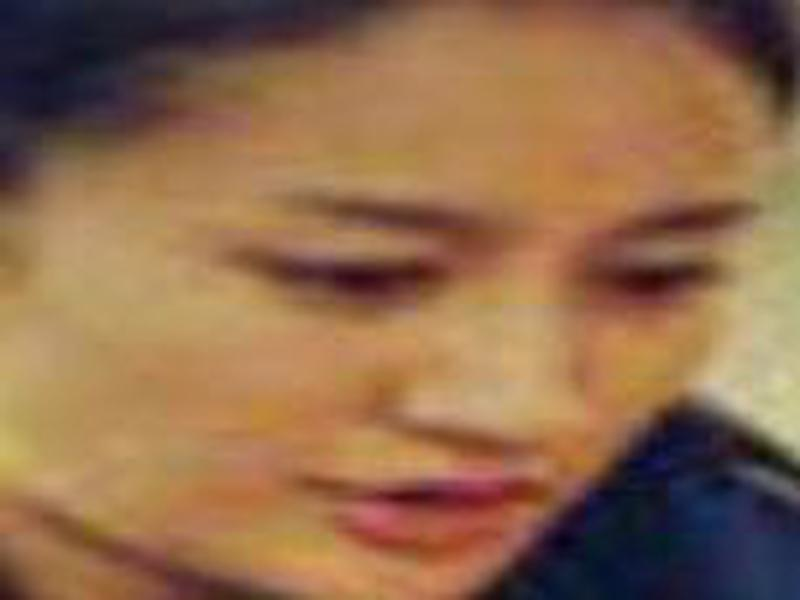without_mask: (10, 57, 763, 600)
